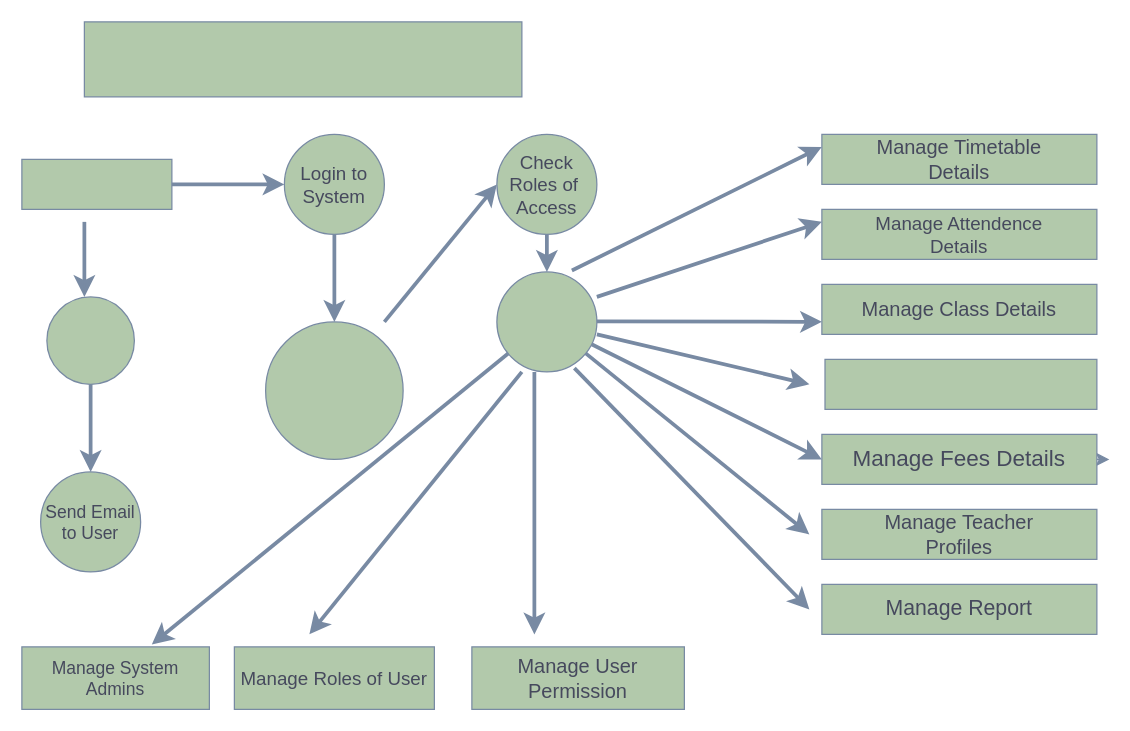
Image size: 1130x731. Some labels were removed from this diagram. The shapes that lost their labels are listed below. From the top down, each one's centre as x and y in pixels, then its label:
the point at 302,59: Student Information System
the point at 96,183: Admin
the point at 90,340: Forgot Password
the point at 546,321: Manage Modules
the point at 333,390: Check CRedentials
the point at 960,383: Manage Student Details
